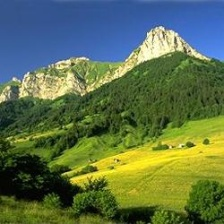neutral: (4, 3, 224, 220)
